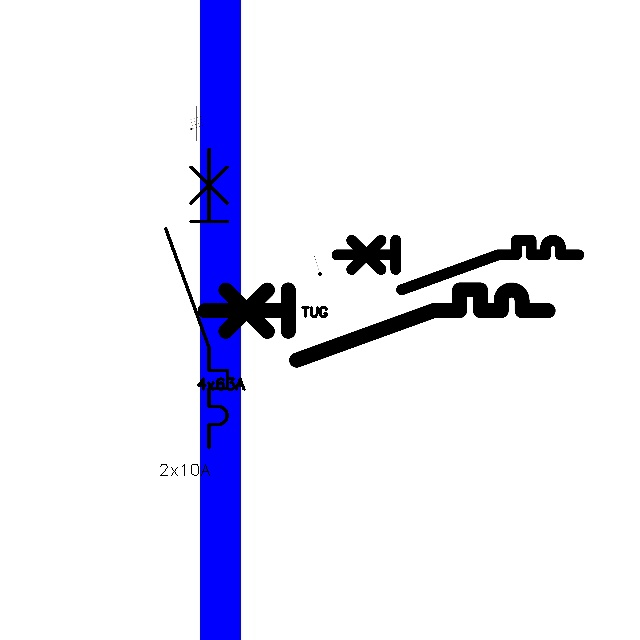interruptor_termomagnetico: (196, 281, 557, 369), (158, 141, 235, 454), (330, 234, 584, 296)
